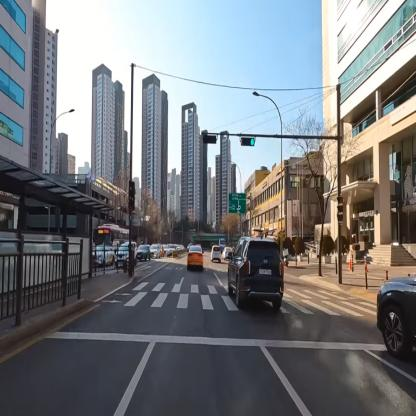Green: (242, 135, 256, 147)
